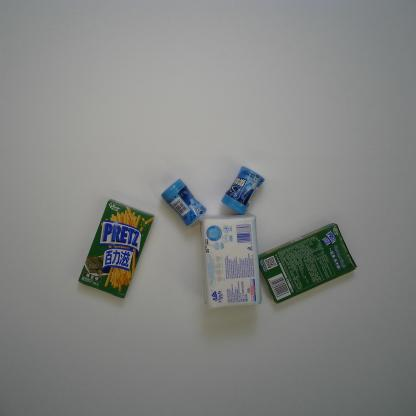Dessert: (256, 222, 357, 304), (77, 198, 155, 300)
Gum: (160, 177, 208, 229), (220, 165, 266, 216)
Tissue: (199, 215, 262, 311)
